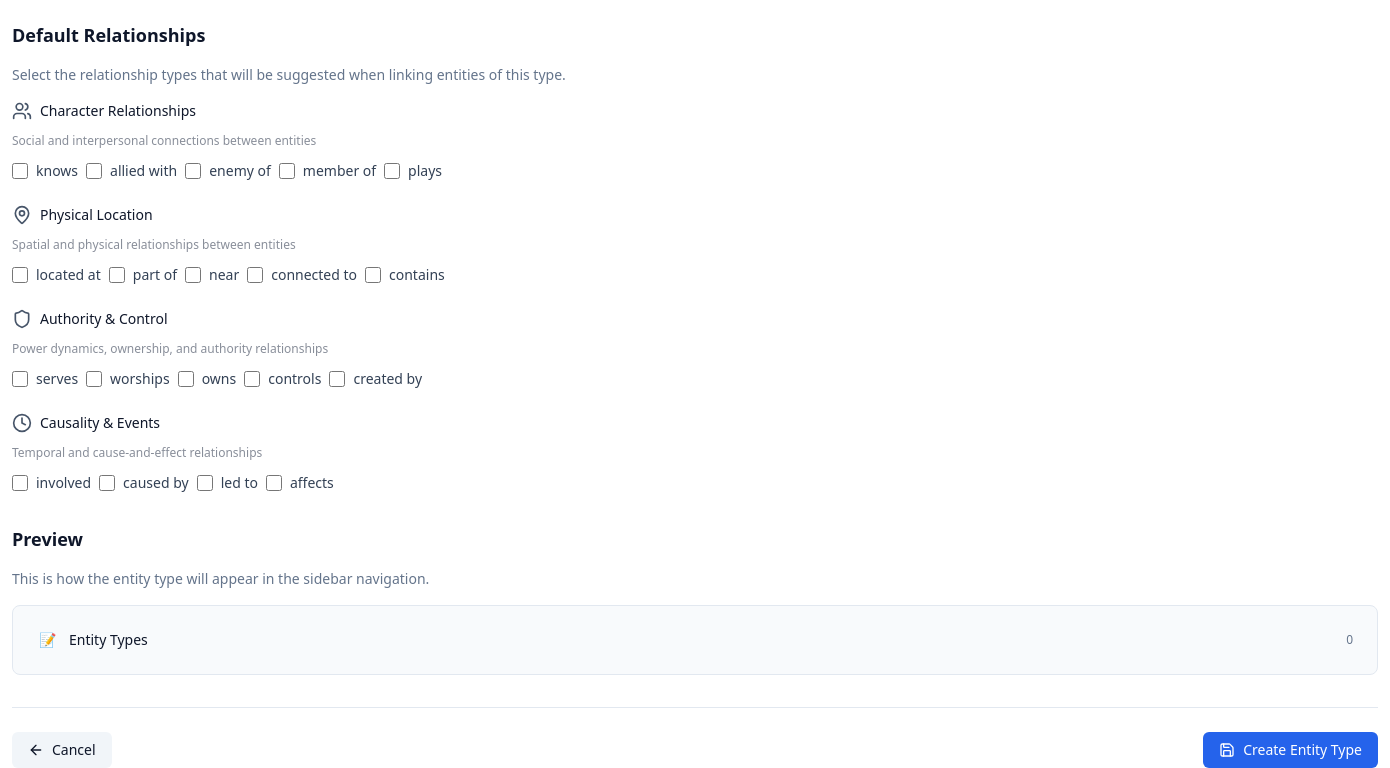
Test: CustomEntityTypeForm - Improved Validation Messages (Issue #25 Phase 2) › should show specific error for empty display name
The width and height of the screenshot is (1390, 768).
(page scrolled)
Click the button "Create Entity Type" at (1291, 750), box left=1203, top=732, right=1378, bottom=767
(page scrolled)
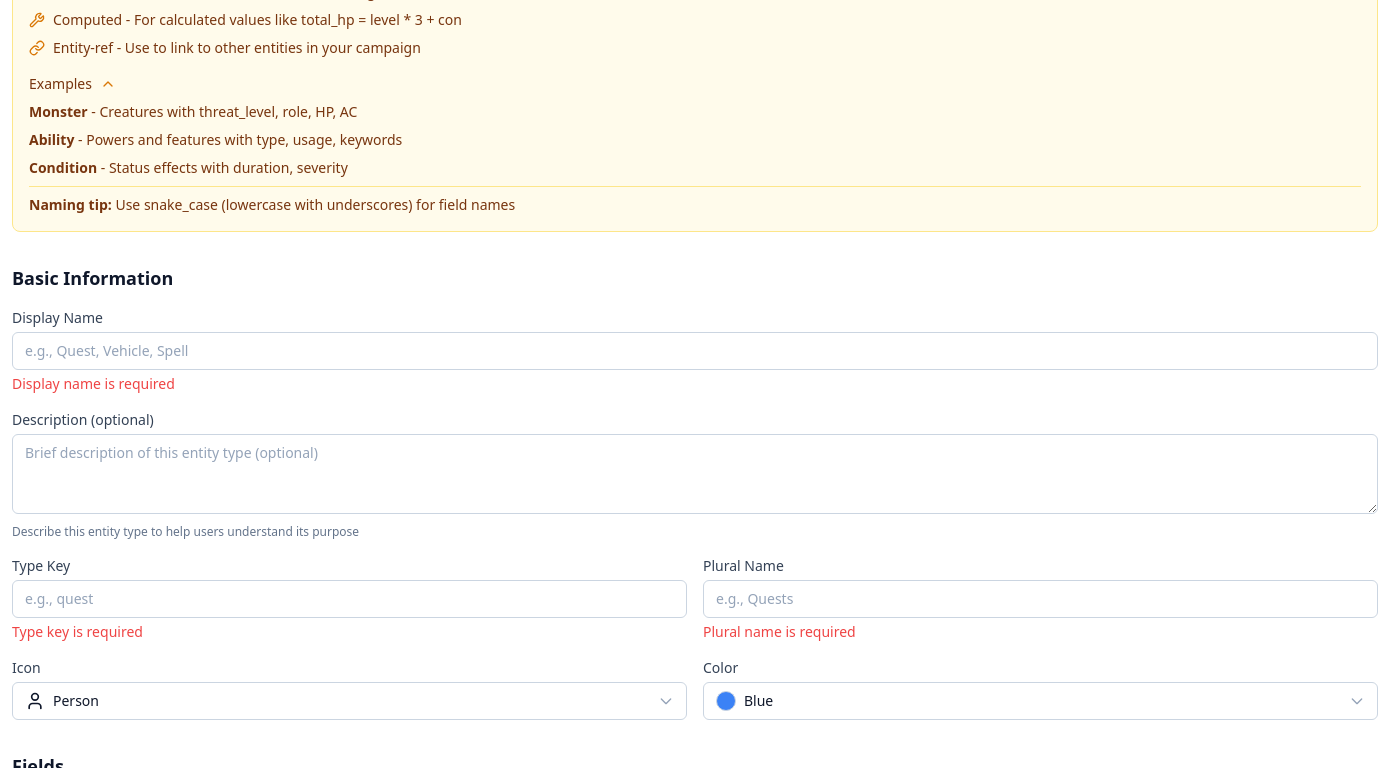
Result: the text "Display name is required" is shown at left=12, top=374, right=175, bottom=393
